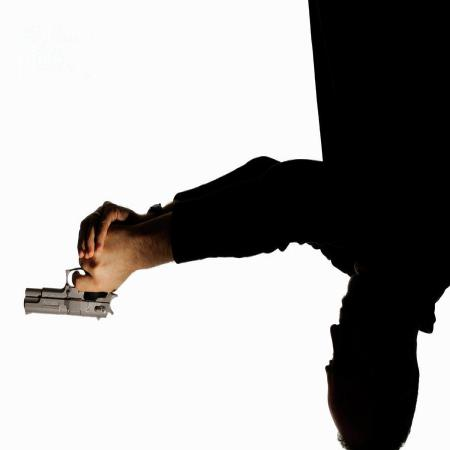Pistol: (23, 260, 119, 322)
